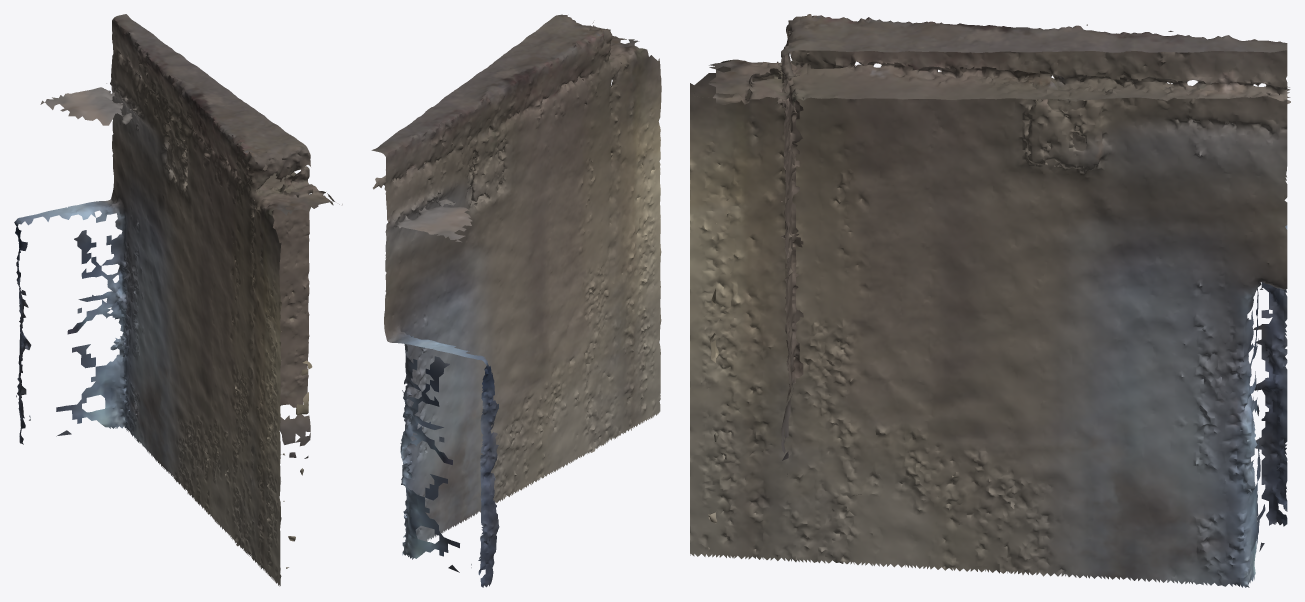
File: fine.glb
3 views of the same model, side by side, from view 1: azimuth 30°, elevation 25°; view 2: azimuth 150°, elevation 25°; view 3: azimuth 270°, elevation 25° (orthographic). The views are drawn at different scales.
Size of the model in its own units: 0.4448 by 1.48 by 1.46.
